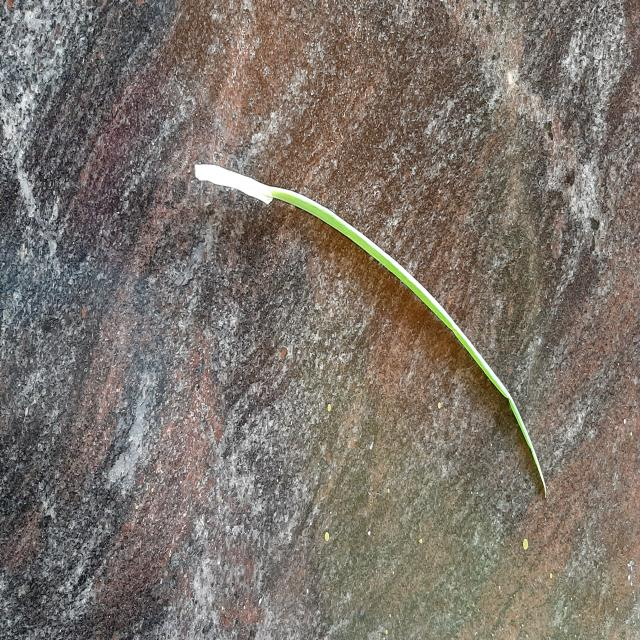onion: (195, 165, 546, 493)
